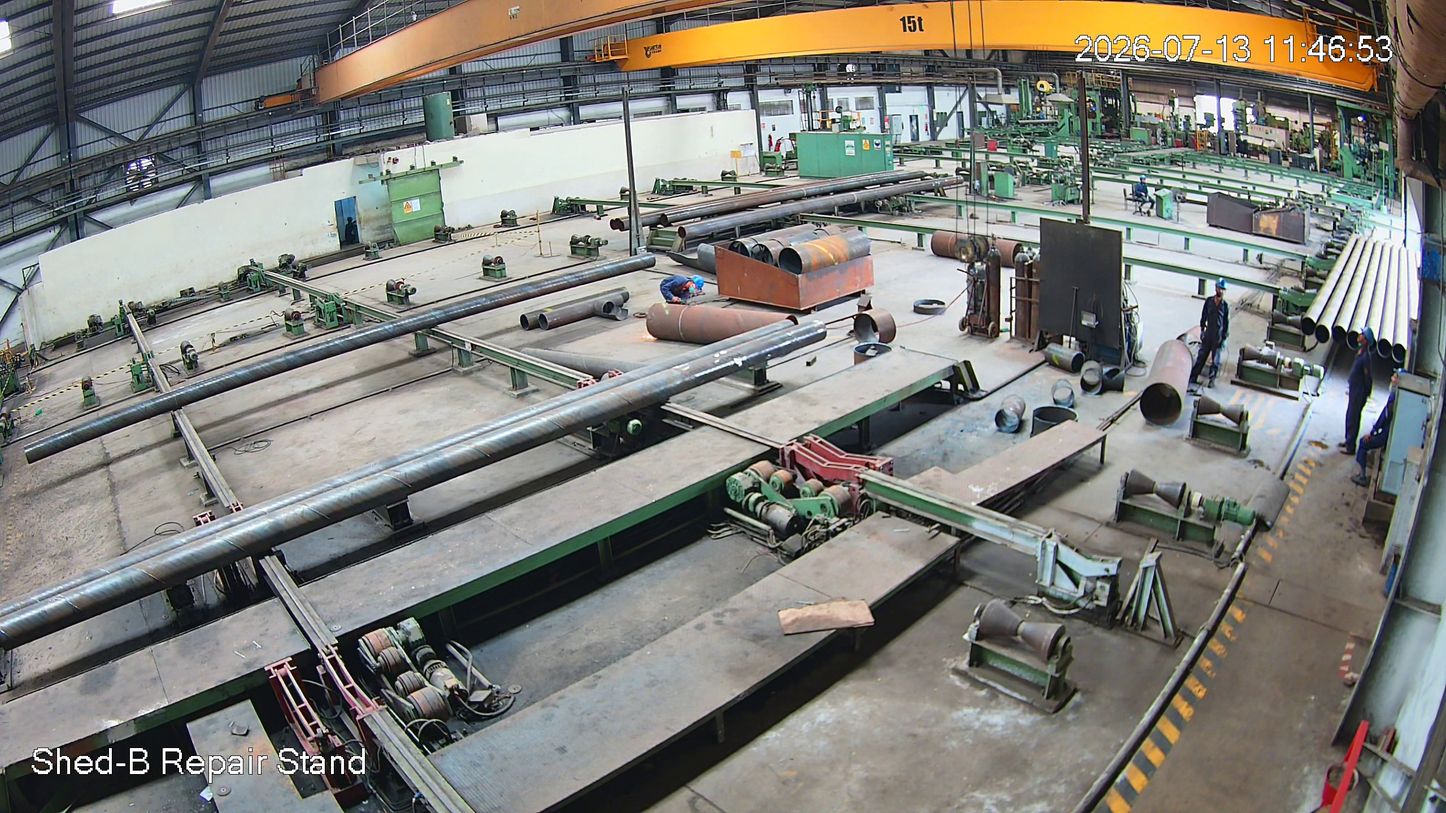Helmet: (1353, 325, 1376, 353), (1210, 277, 1231, 301), (688, 274, 704, 296)
Person: (1336, 328, 1379, 456), (1192, 279, 1229, 383), (659, 274, 708, 305)
